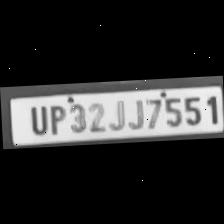1: (200, 94, 222, 124)
2: (84, 100, 106, 132)
3: (64, 100, 86, 134)
5: (159, 94, 181, 128), (180, 93, 202, 125)
7: (140, 95, 162, 129)
J: (122, 96, 144, 130), (105, 97, 124, 131)
P: (44, 102, 64, 134)
U: (22, 102, 48, 134)
